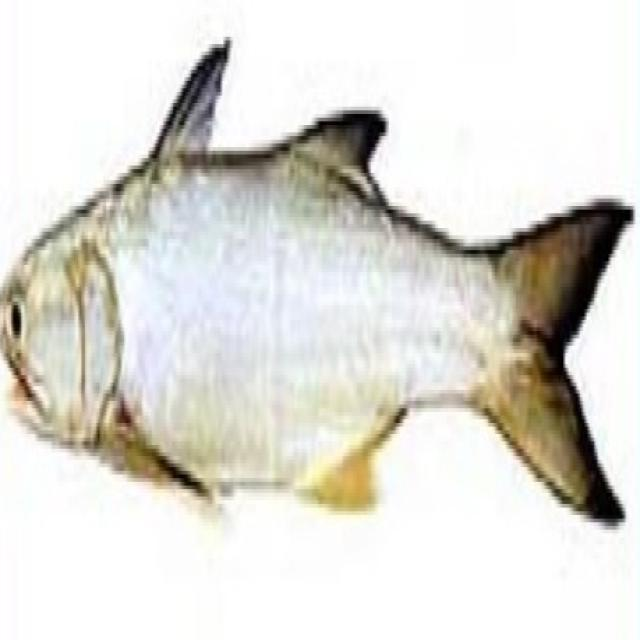Fourfinger-Threadfin: (10, 29, 640, 617)
